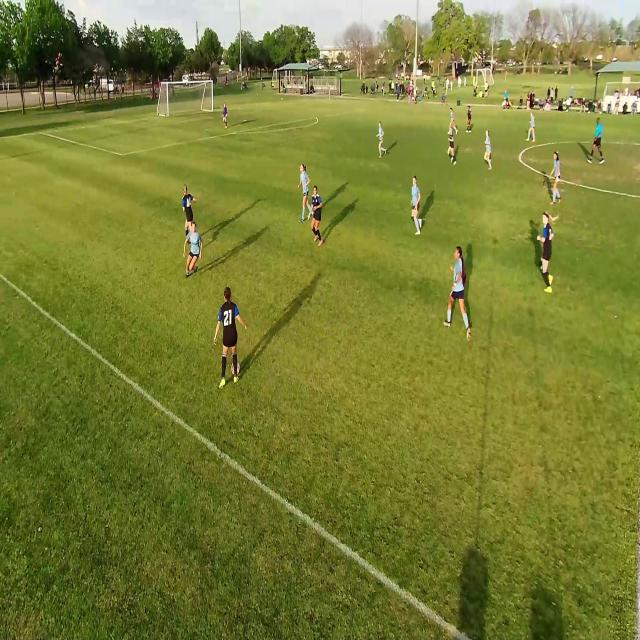ball: (230, 361, 242, 379)
team1: (216, 290, 246, 389), (537, 210, 557, 293), (308, 182, 326, 250), (182, 187, 199, 237), (447, 127, 457, 167), (467, 103, 474, 133)
team2: (448, 245, 473, 335), (550, 150, 564, 205), (188, 223, 202, 276), (300, 167, 314, 220), (410, 176, 422, 235), (483, 128, 493, 171), (527, 110, 536, 144), (377, 121, 385, 158), (450, 106, 457, 138)
